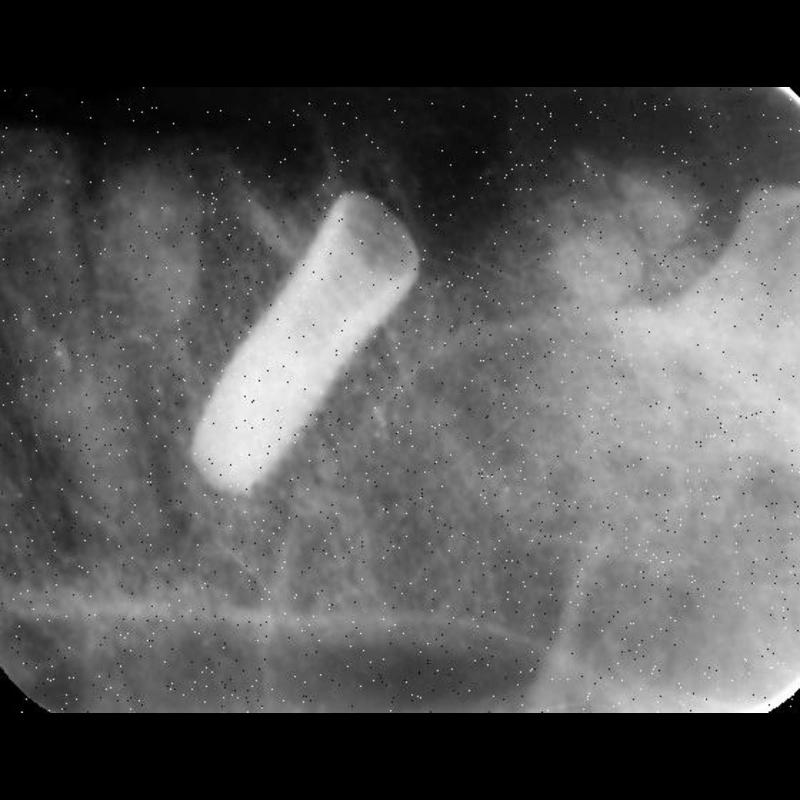Dentium: (187, 178, 423, 504)
